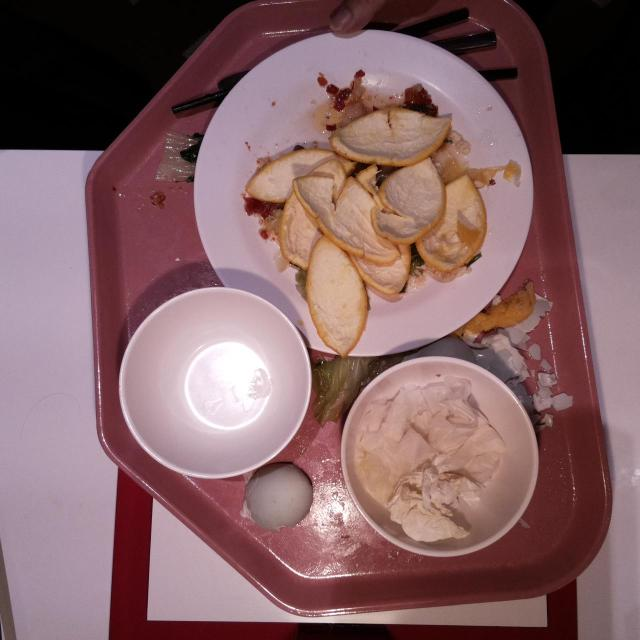Egg-shell: (245, 458, 315, 532), (482, 334, 532, 384), (510, 300, 552, 350), (533, 366, 574, 412)
Orange-peel: (290, 174, 402, 266), (302, 234, 370, 358), (278, 158, 350, 272), (417, 173, 489, 274), (371, 153, 448, 247), (330, 108, 454, 165), (245, 145, 357, 203), (345, 210, 414, 298)
Vegetable: (311, 352, 401, 426)
